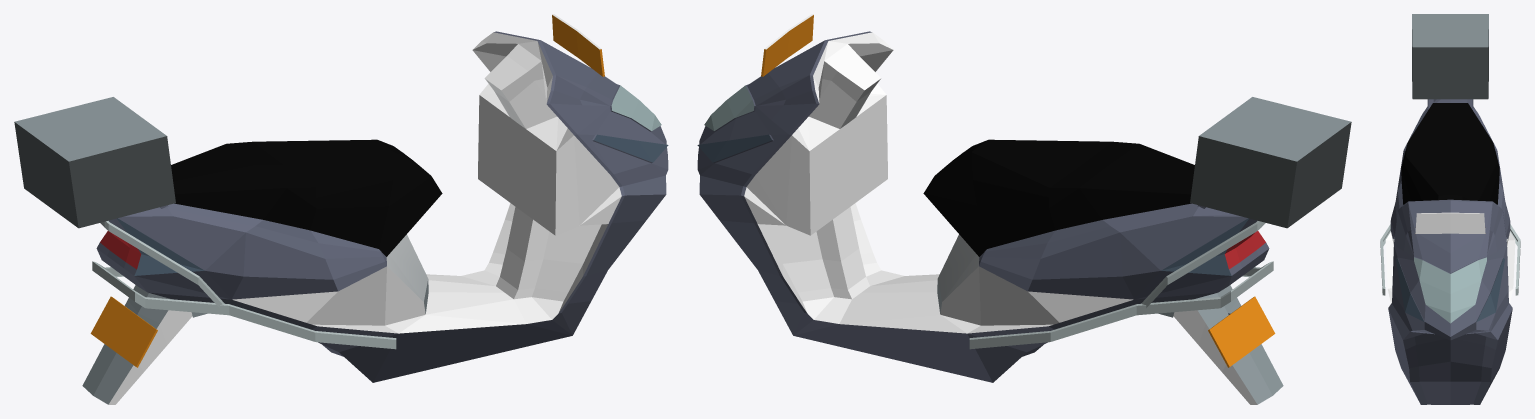
File: HN-Dio_stock_Body.fbx
3 views of the same model, side by side, from view 1: azimuth 30°, elevation 25°; view 2: azimuth 150°, elevation 25°; view 3: azimuth 270°, elevation 25° (orthographic). The views are drawn at different scales.
Parts seen in each view (by area): view 1: Body; view 2: Body; view 3: Body.
Part boxes in pixels (left/top/right/bottom): Body: left=14, top=14, right=668, bottom=404; Body: left=697, top=14, right=1351, bottom=404; Body: left=1380, top=14, right=1520, bottom=404.
Bounding box in the file's own units: 45.19 × 165 × 76.72.
